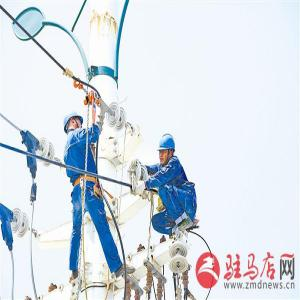blue: (157, 135, 177, 166), (63, 111, 85, 135)
